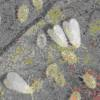whitefly: (2, 71, 37, 98), (62, 18, 83, 49), (45, 24, 69, 50)
